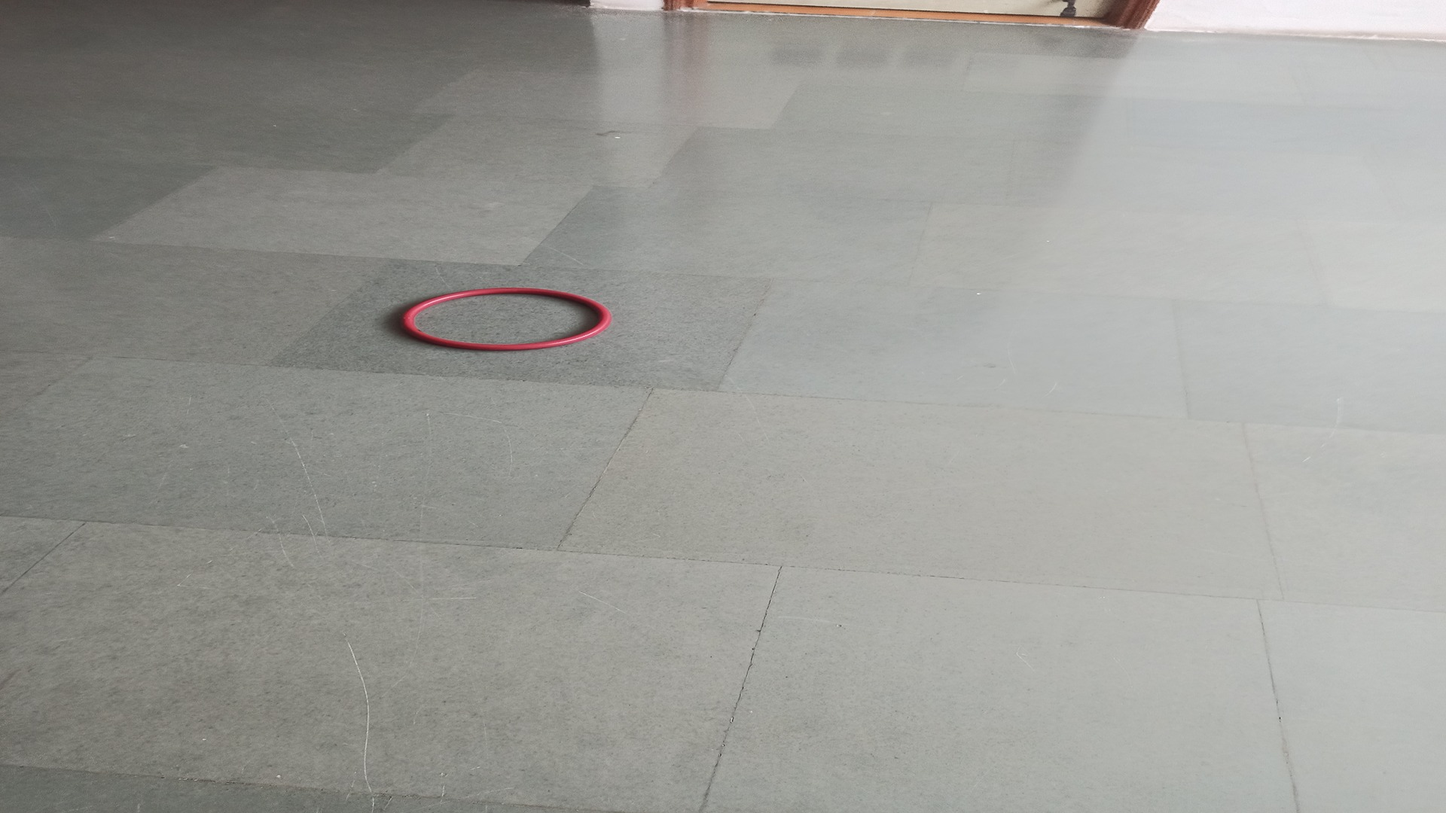Red ring: (398, 287, 611, 346)
